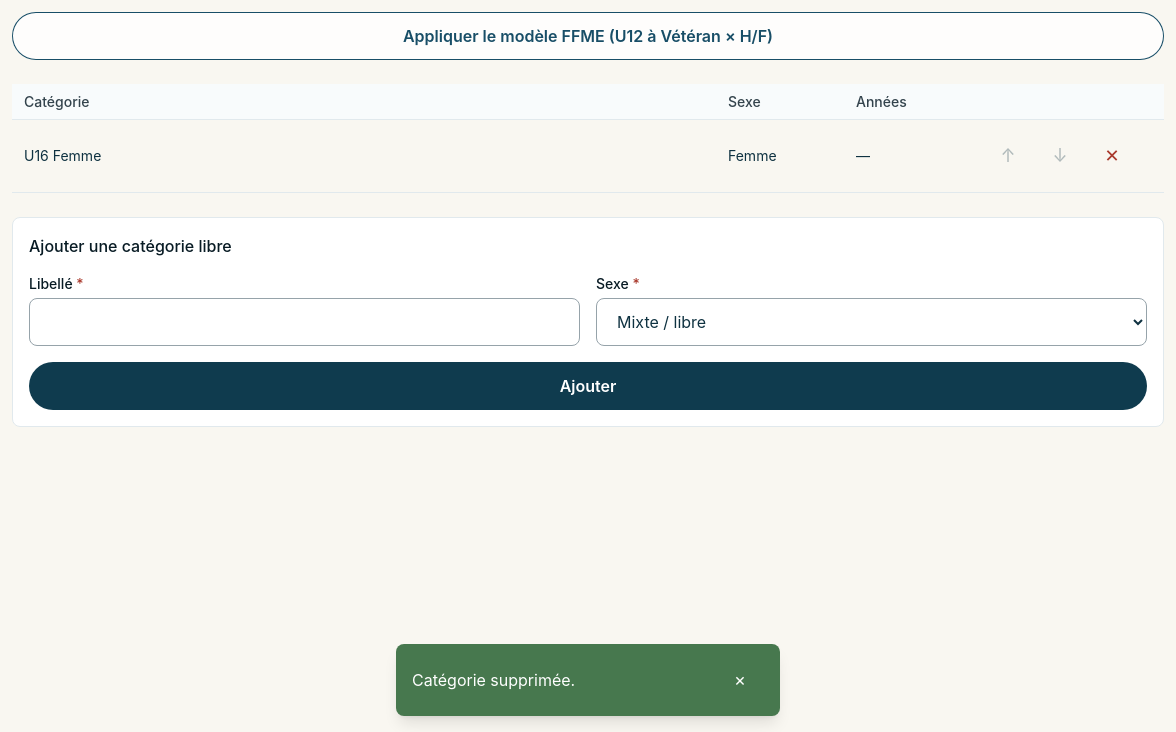
Test case: CategoriesTab — suppression › relaie le refus du serveur, qui seul connaît les rattachements
This screenshot has width=1176, height=732.
Click the button named "Supprimer": {"x": 1112, "y": 156} [1088,132,1136,180]
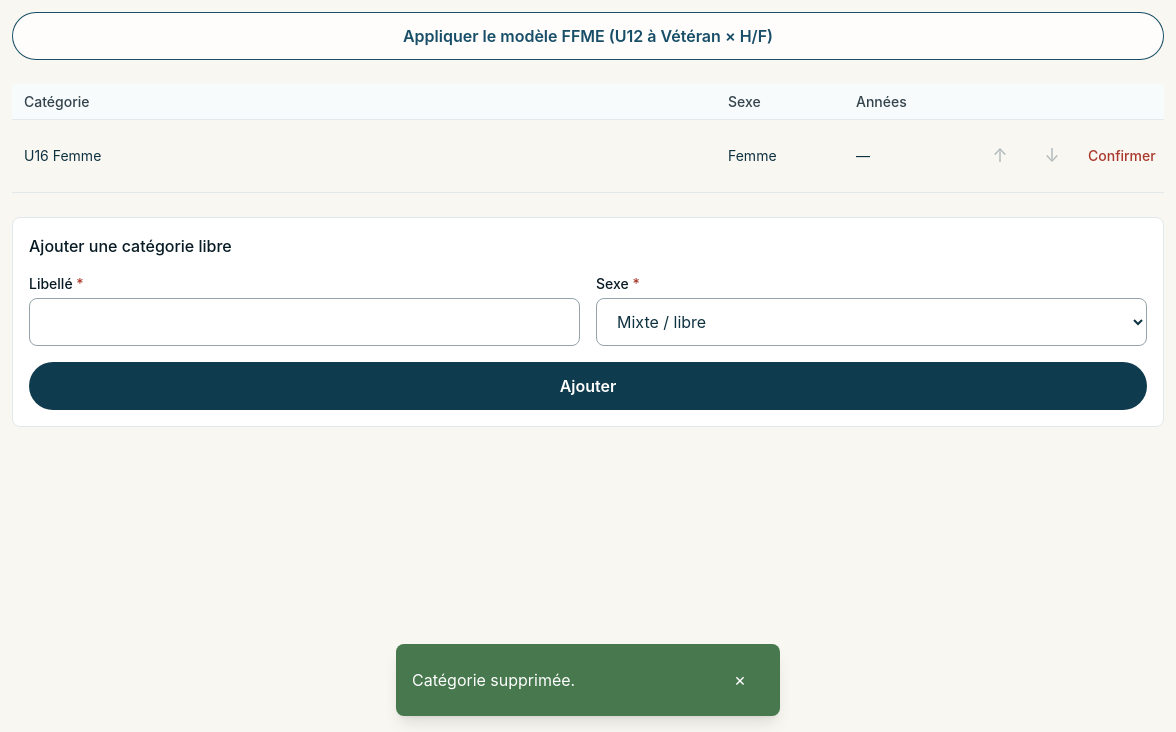
Click the button "Confirmer": {"x": 1122, "y": 156} [1080,132,1164,180]
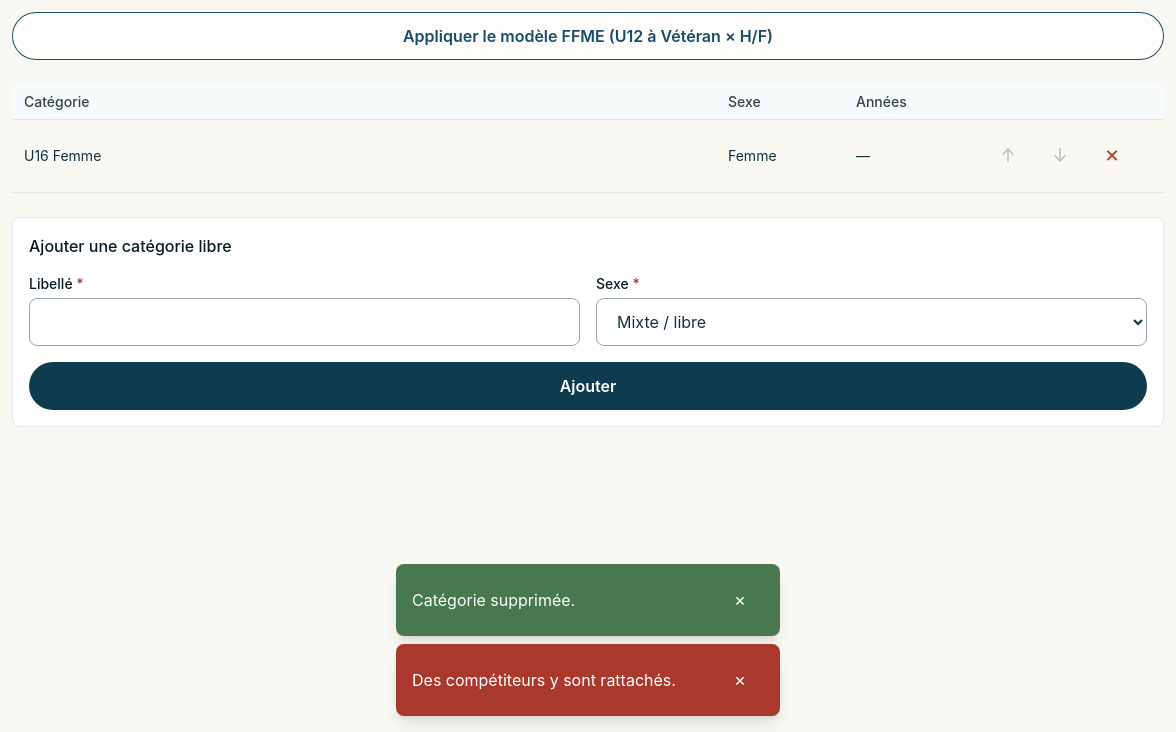
Expected: the text "Des compétiteurs y sont rattachés." is shown, [412,668,676,692]
